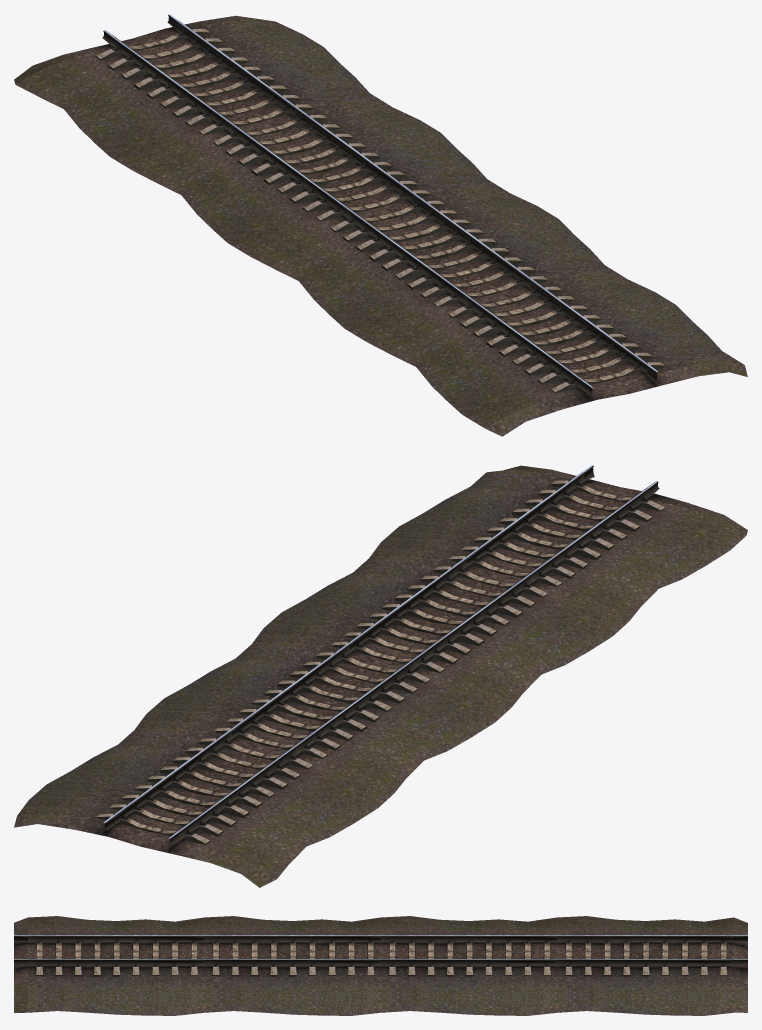
Rendered from 1track_20_TSM.gltf.
3 renders of one model, top to bottom at view 1: azimuth 30°, elevation 25°; view 2: azimuth 150°, elevation 25°; view 3: azimuth 270°, elevation 25°, orthographic. The views are drawn at different scales.
Bounding box in the file's own units: 6.7 × 0.6438 × 20.8.
Materials: 1 (1 with a texture image).
